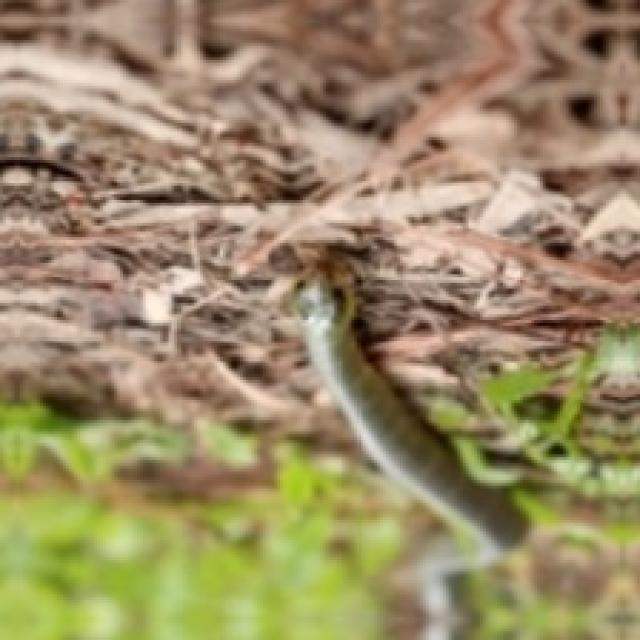gunthers philippine shrub snake: (294, 260, 526, 549)
